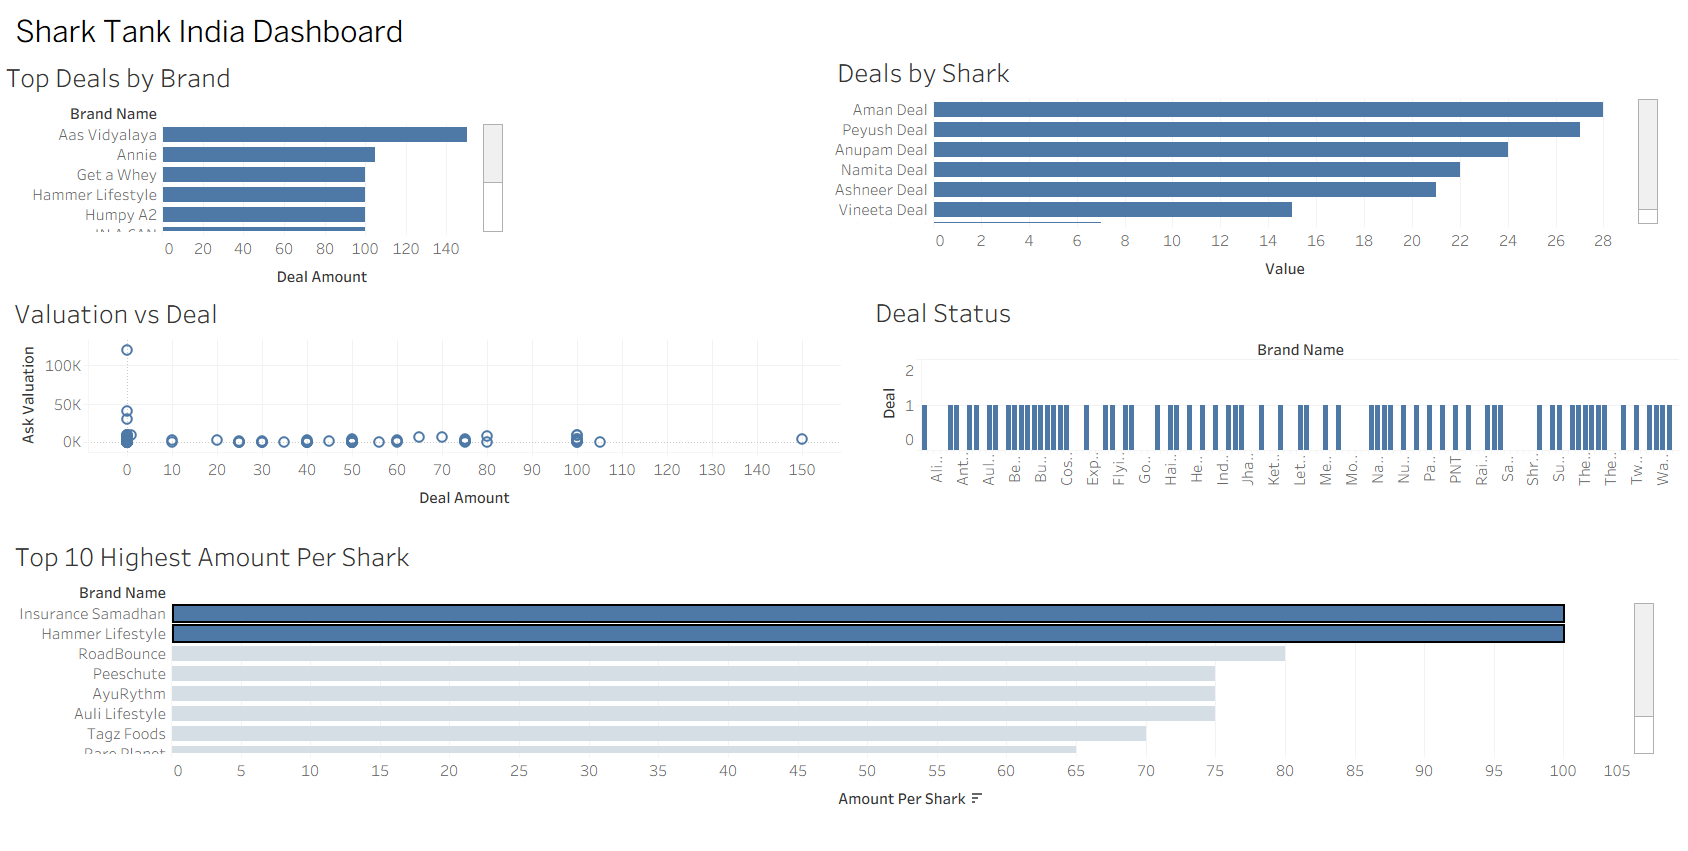

The dashboard page shown, as its layout file describes it:
{"tool":"tableau","page":{"name":"Dashboard 2","canvas":[1000,1000],"units":"permille","ordinal":0},"visuals":[{"type":"title","box":[4.7,9.4,990.5,54.1]},{"type":"worksheet","title":"Deals by Shark","mark":"Automatic","box":[493.5,57.6,488.7,278.5]},{"type":"worksheet","title":"Top Deals by Brand","mark":"Automatic","rows":["brand_name"],"cols":["deal_amount"],"box":[1.2,63.5,462.1,282]},{"type":"worksheet","title":"Deal Status","mark":"Automatic","rows":["deal"],"cols":["brand_name"],"box":[516,339.6,478.7,233.8]},{"type":"worksheet","title":"Valuation vs Deal","mark":"Automatic","rows":["ask_valuation"],"cols":["deal_amount"],"box":[5.9,340.8,492.3,264.4]},{"type":"worksheet","title":"Top 10 Highest Amount Per Shark","mark":"Automatic","rows":["brand_name"],"cols":["amount_per_shark"],"box":[6.5,626.3,973.3,332.6]}]}

Visuals, with their boxes on the dashboard's canvas, which has no fixed pixel size, in thousandths of its width and height (x1, y1, x2, y2). These are canvas units, not pixel positions in the 1688x851 screenshot, which may show the page scaled, cropped or inside an application window:
title: (x1=5, y1=9, x2=995, y2=64)
"Deals by Shark" worksheet: (x1=494, y1=58, x2=982, y2=336)
"Top Deals by Brand" worksheet: (x1=1, y1=64, x2=463, y2=346)
"Deal Status" worksheet: (x1=516, y1=340, x2=995, y2=573)
"Valuation vs Deal" worksheet: (x1=6, y1=341, x2=498, y2=605)
"Top 10 Highest Amount Per Shark" worksheet: (x1=6, y1=626, x2=980, y2=959)
